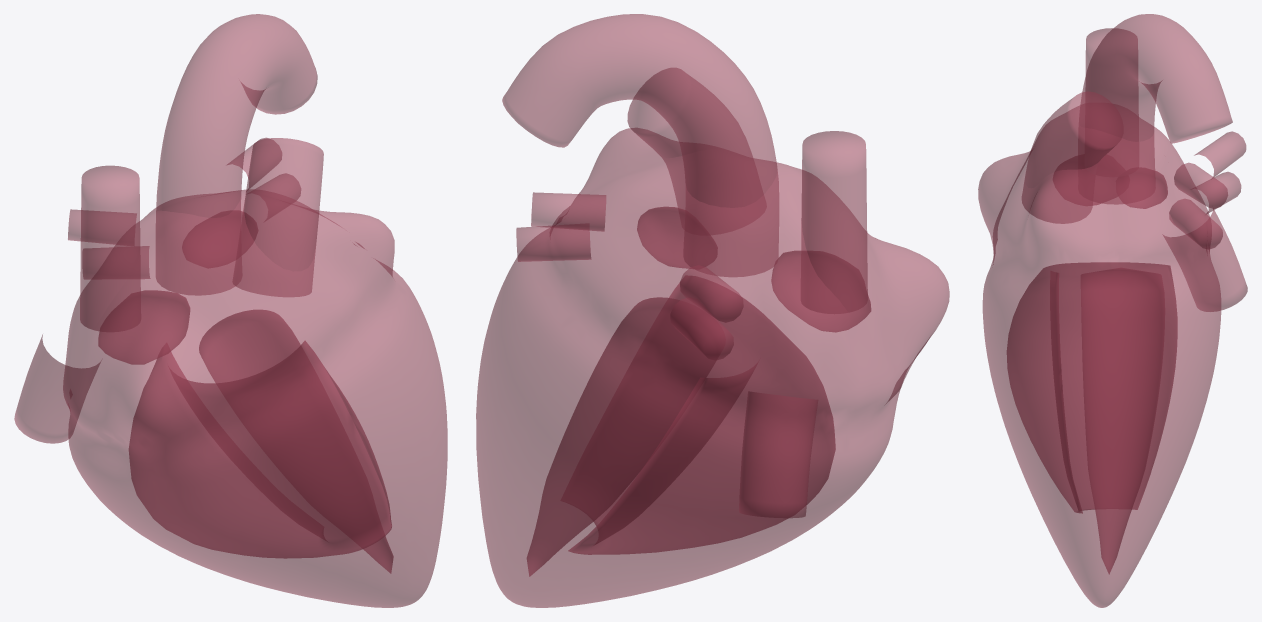
File: s4_heart_full.glb
3 renders of one model, left to right at view 1: azimuth 30°, elevation 25°; view 2: azimuth 150°, elevation 25°; view 3: azimuth 270°, elevation 25°, orthographic. The views are drawn at different scales.
Visible parts, largest first — view 1: heart; view 2: heart; view 3: heart.
Part boxes in pixels (x1,y1,x2,y2): heart: [14, 14, 447, 607]; heart: [476, 14, 949, 607]; heart: [978, 14, 1247, 607].
Bounding box in the file's own units: 1.62 × 2.5 × 1.16.
